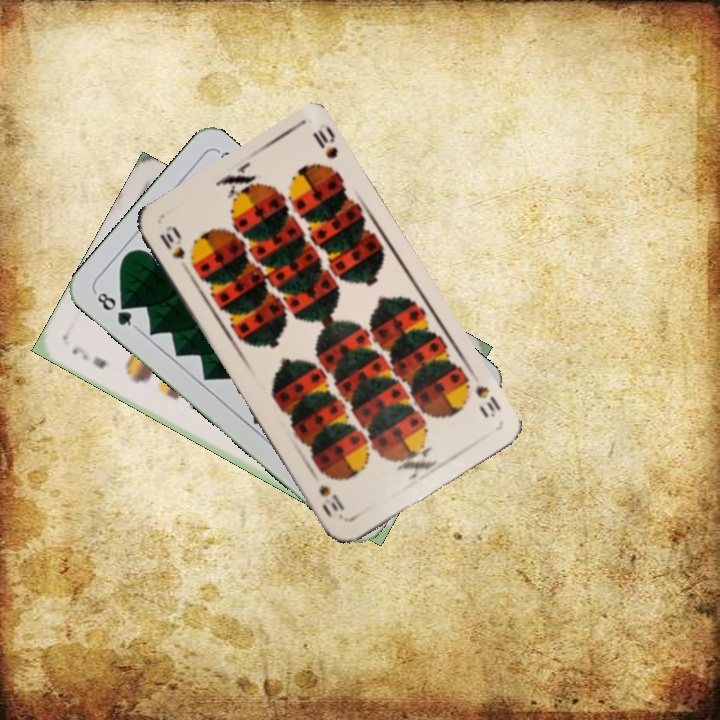E7: (68, 342, 110, 372)
G8: (91, 287, 140, 331)
S10: (155, 222, 193, 276), (471, 381, 504, 421)
